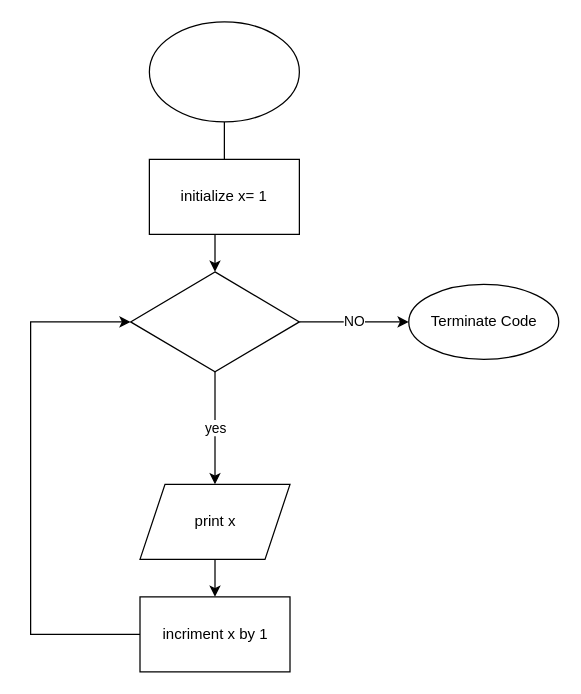
This 581x694 diagram has some shape labels left out. The box of each missing label's shape, as (x1, y1, x2, y2) in pixels:
start: (148, 21, 299, 122)
x<= 20?: (129, 271, 299, 372)
